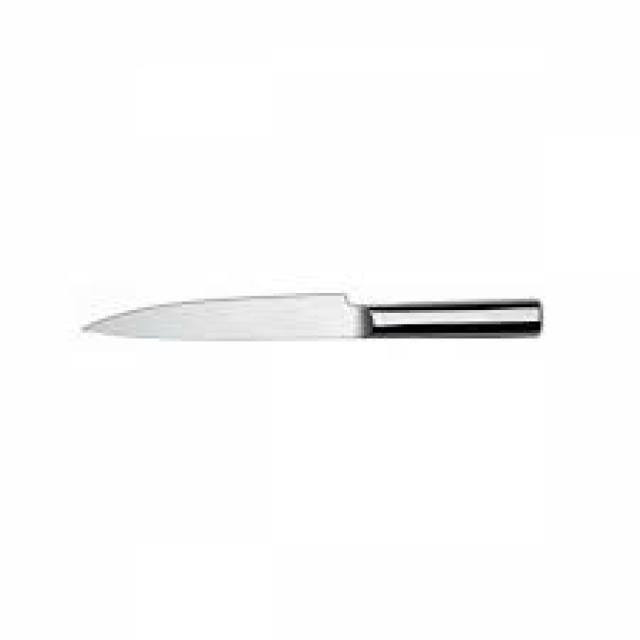knife: (80, 290, 553, 343)
